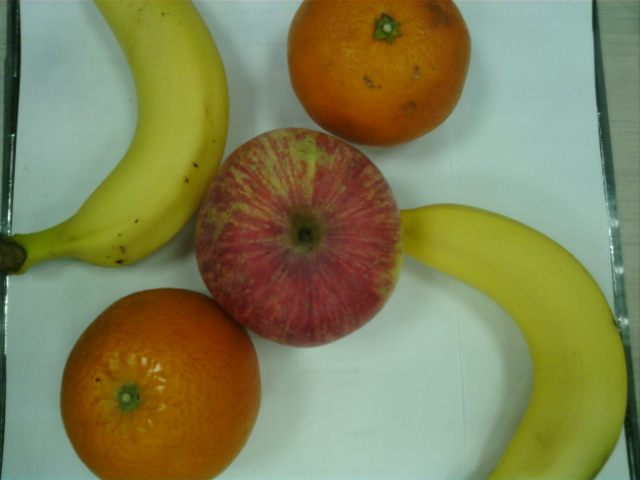normal_apple: (196, 127, 401, 349)
normal_banana: (398, 205, 627, 480), (3, 2, 229, 267)
normal_orange: (61, 288, 263, 480), (286, 1, 471, 145)
